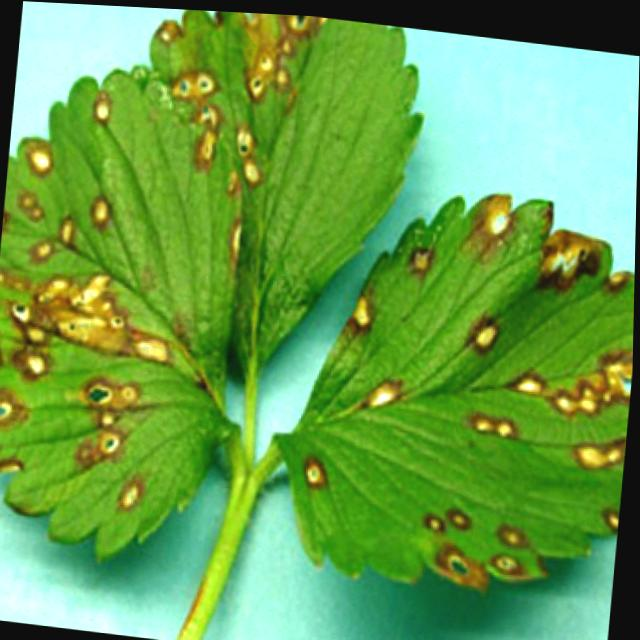Leaf Spot: (272, 185, 636, 587), (0, 67, 242, 560), (148, 7, 428, 381)
